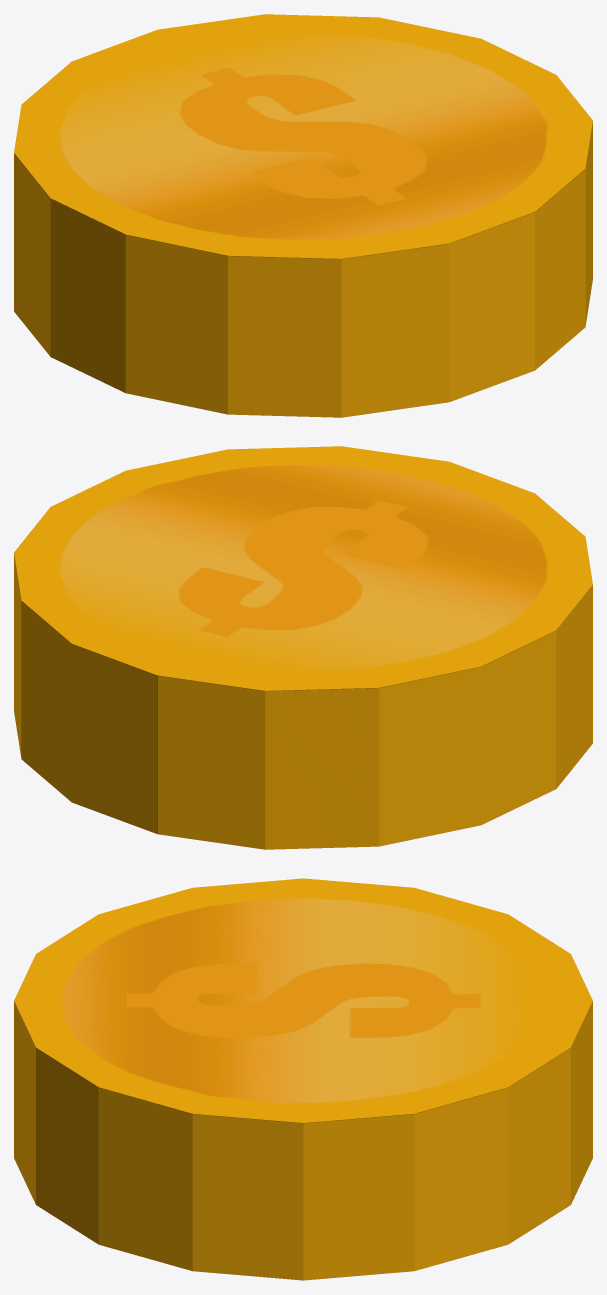
The model's file is Копия SimpleCoin007.fbx.
The picture shows the model from 3 angles, top to bottom: view 1: azimuth 30°, elevation 25°; view 2: azimuth 150°, elevation 25°; view 3: azimuth 270°, elevation 25°; orthographic projection.
Visible parts, largest first — view 1: simple_coin_001; view 2: simple_coin_001; view 3: simple_coin_001.
Part boxes in pixels (x1,y1,x2,y2): simple_coin_001: [14, 14, 592, 417]; simple_coin_001: [14, 446, 592, 849]; simple_coin_001: [14, 878, 592, 1280].
Size of the model in its own units: 100 by 30 by 100.
